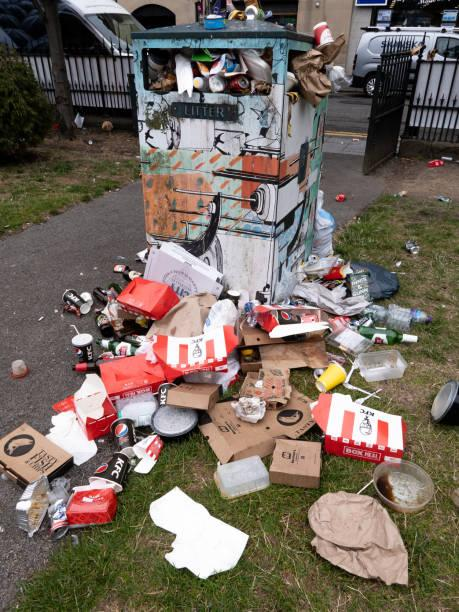trash: (19, 449, 139, 549), (301, 482, 403, 589), (145, 487, 258, 583), (132, 293, 253, 376), (0, 393, 91, 503), (131, 38, 281, 102), (194, 389, 322, 461), (119, 241, 237, 315), (319, 393, 406, 471), (268, 279, 337, 375), (104, 383, 218, 440), (281, 24, 352, 102), (61, 357, 121, 440), (363, 449, 432, 518), (92, 341, 169, 402), (323, 247, 400, 307), (346, 294, 442, 338), (226, 294, 284, 366), (227, 356, 294, 414), (317, 321, 434, 354), (303, 167, 336, 283), (306, 219, 349, 307), (262, 428, 319, 487), (211, 448, 271, 504), (181, 0, 291, 28), (113, 273, 178, 319), (303, 349, 355, 405), (350, 346, 431, 381), (59, 282, 124, 319), (56, 324, 101, 368), (416, 376, 459, 417), (119, 433, 169, 468), (418, 148, 459, 175), (2, 357, 38, 384), (112, 418, 139, 451), (397, 229, 423, 261), (325, 183, 354, 208), (387, 183, 421, 202), (434, 191, 459, 207), (93, 122, 117, 138), (347, 131, 372, 146), (72, 113, 86, 129), (51, 123, 66, 136)
trash_can_overflow: (103, 6, 384, 436)
